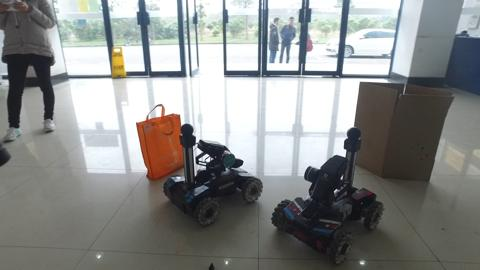bag: (136, 103, 181, 177)
box: (357, 77, 441, 177)
chariot: (272, 128, 383, 264), (165, 124, 263, 226)
